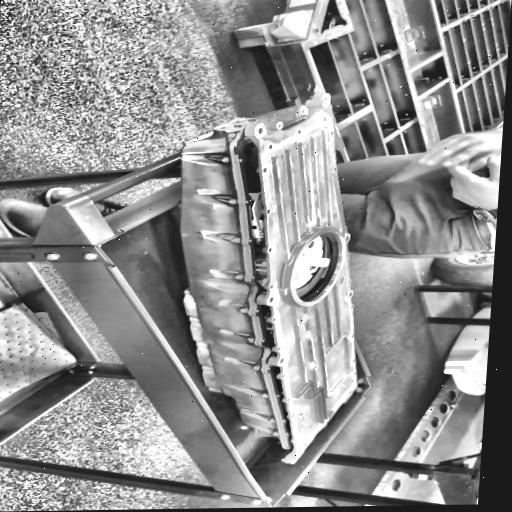bms_unit: (159, 89, 364, 470)
